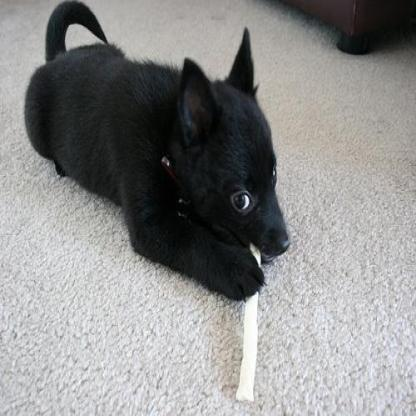schipperke: (21, 3, 290, 301)
